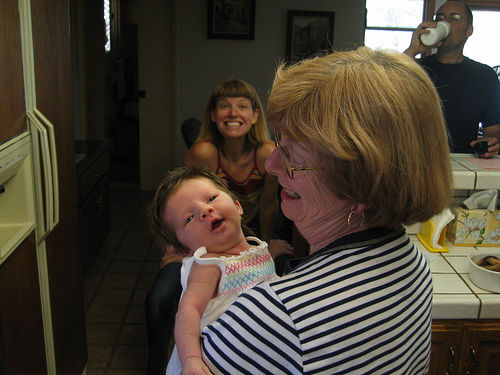without_mask: (264, 112, 377, 248), (154, 172, 249, 264), (424, 1, 477, 65), (210, 87, 263, 147)
